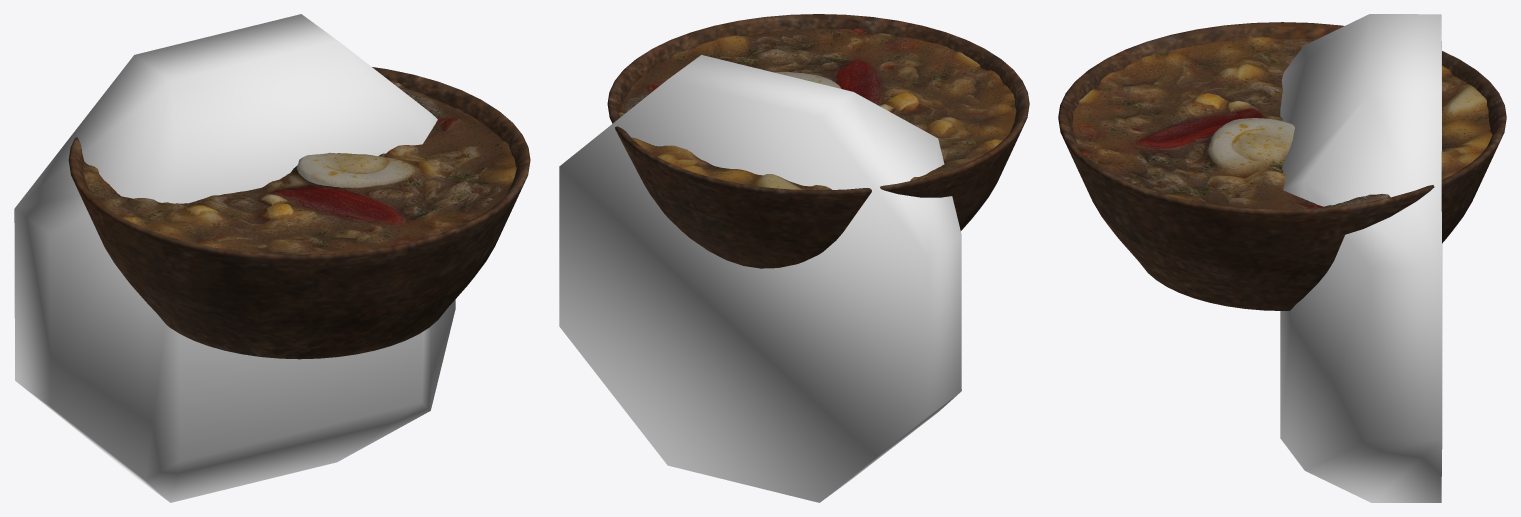
Rendered from SM_Soup_Food.fbx.
3 renders of one model, left to right at view 1: azimuth 30°, elevation 25°; view 2: azimuth 150°, elevation 25°; view 3: azimuth 270°, elevation 25°, orthographic. The views are drawn at different scales.
Parts seen in each view (by area): view 1: SM_Soup_Food_ConvexHulls, SM_Soup_Food; view 2: SM_Soup_Food_ConvexHulls, SM_Soup_Food; view 3: SM_Soup_Food_ConvexHulls, SM_Soup_Food.
Part boxes in pixels (x1,y1,x2,y2): SM_Soup_Food_ConvexHulls: (14,14,455,502); SM_Soup_Food: (68,67,530,359); SM_Soup_Food_ConvexHulls: (559,55,961,502); SM_Soup_Food: (607,14,1029,268); SM_Soup_Food_ConvexHulls: (1280,14,1442,502); SM_Soup_Food: (1058,22,1506,310).
Size of the model in its own units: 0.277 by 0.2761 by 0.2738.
